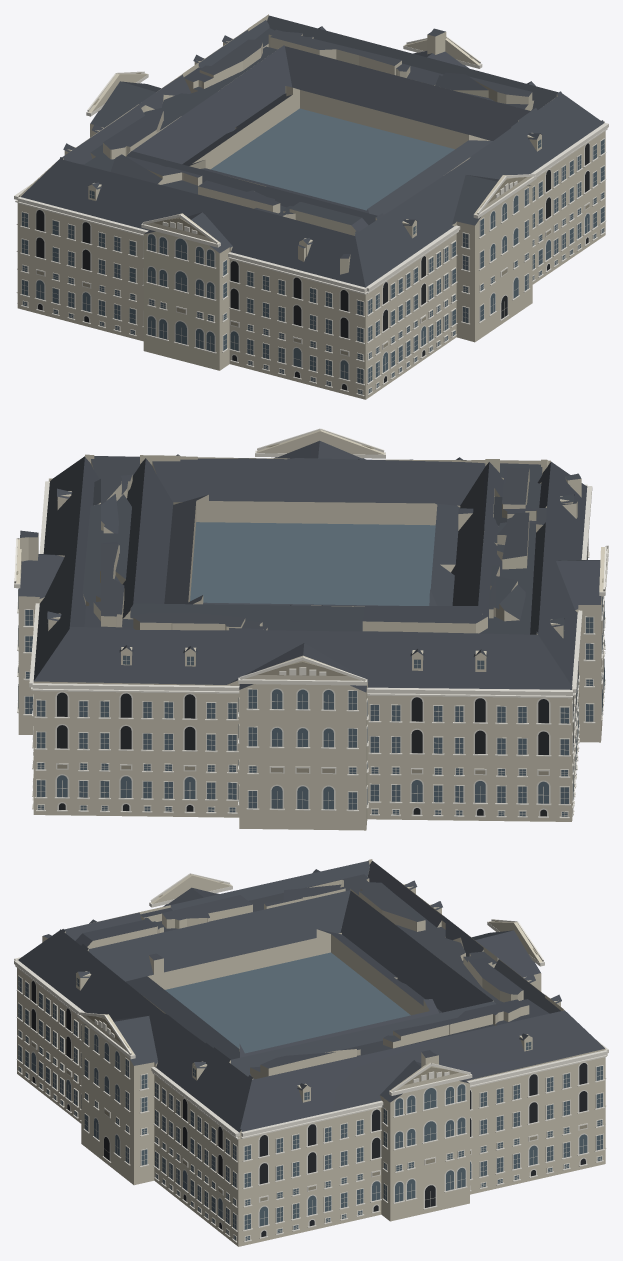
Rendered from scheepvaartmuseum.glb.
3 renders of one model, top to bottom at view 1: azimuth 30°, elevation 25°; view 2: azimuth 150°, elevation 25°; view 3: azimuth 270°, elevation 25°, orthographic. The views are drawn at different scales.
Visible parts, largest first — view 1: scheepvaartmuseum; view 2: scheepvaartmuseum; view 3: scheepvaartmuseum.
Part boxes in pixels (x1=…): scheepvaartmuseum: x1=14, y1=14, x2=608, y2=399; scheepvaartmuseum: x1=14, y1=428, x2=608, y2=830; scheepvaartmuseum: x1=14, y1=859, x2=608, y2=1246.
Bounding box in the file's own units: 84.88 × 23.8 × 82.6.
